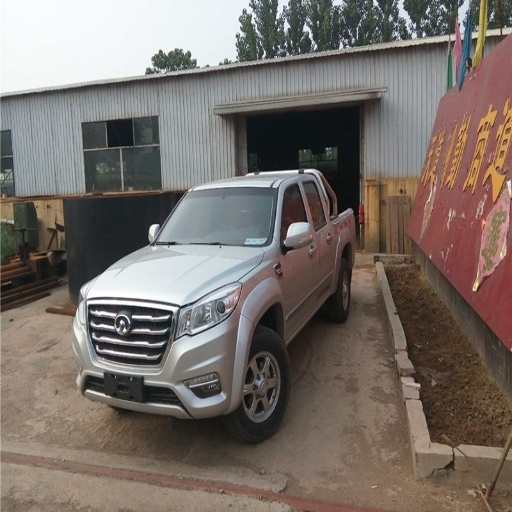back_glass: (284, 1, 370, 28)
front_bumper: (73, 284, 253, 418)
front_glass: (154, 188, 276, 247)
front_left_door: (281, 177, 318, 333)
